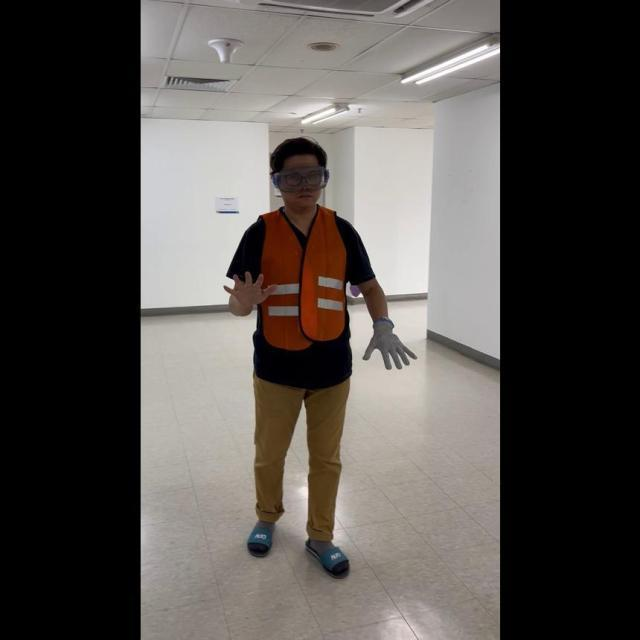bare_hand: (221, 266, 275, 313)
gloved_hand: (360, 316, 416, 370)
